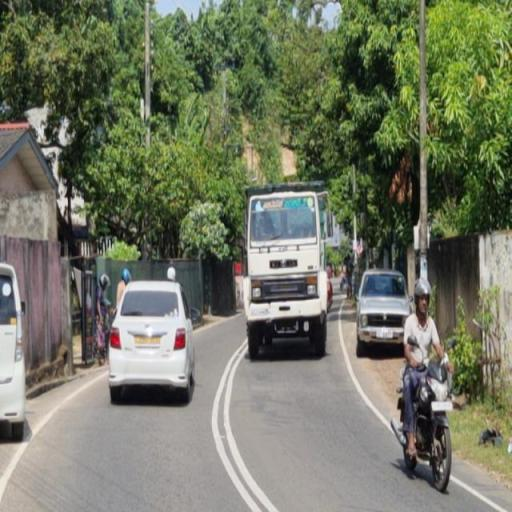double_white_line: (210, 338, 276, 512), (453, 474, 507, 512)
